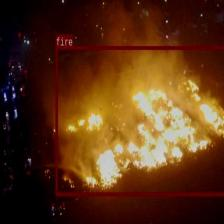fire: (54, 45, 224, 194)
